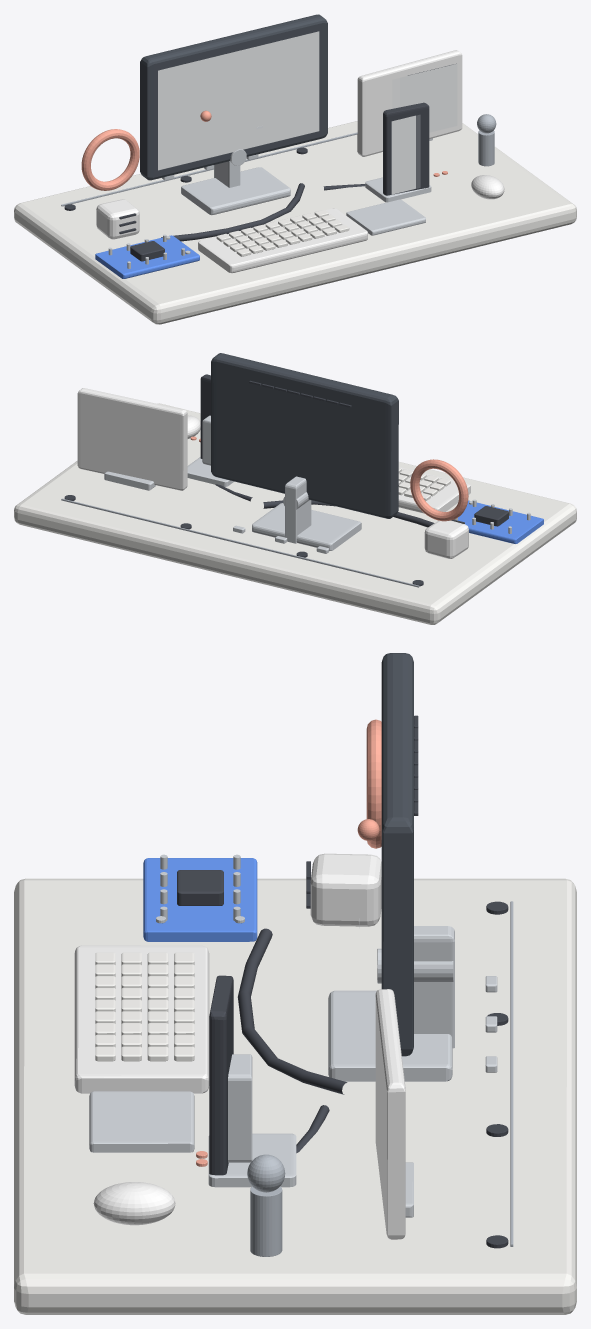
Rendered from prototype.glb.
The picture shows the model from 3 angles, top to bottom: view 1: azimuth 30°, elevation 25°; view 2: azimuth 150°, elevation 25°; view 3: azimuth 270°, elevation 25°; orthographic projection. The views are drawn at different scales.
Parts seen in each view (by area): view 1: PRO_test_bench, SCREEN_prototype_monitor, GLASS_prototype_monitor, PRO_monitor_frame, PRO_tablet_frame, PRO_keyboard, PRO_monitor_foot, GLASS_prototype_tablet, SCREEN_prototype_tablet, PRO_phone_frame, GLASS_prototype_phone, PRO_esp32_board (+11 smaller); view 2: PRO_test_bench, PRO_monitor_frame, PRO_tablet_frame, PRO_monitor_foot, PRO_esp32_board, PRO_light_ring, PRO_sensor, PRO_monitor_stem, PRO_keyboard, PRO_bench_seam, PRO_phone_stand, PRO_phone_frame (+4 smaller); view 3: PRO_test_bench, PRO_monitor_frame, PRO_keyboard, PRO_esp32_board, PRO_tablet_frame, PRO_trackpad, PRO_monitor_foot, PRO_sensor, PRO_phone_frame, PRO_monitor_stem, PRO_cable_main, PRO_mouse (+8 smaller).
Part boxes in pixels (x1,y1,x2,y2): PRO_test_bench: [14, 121, 576, 324]; SCREEN_prototype_monitor: [158, 31, 319, 170]; GLASS_prototype_monitor: [158, 32, 318, 169]; PRO_monitor_frame: [140, 14, 327, 180]; PRO_tablet_frame: [357, 50, 462, 156]; PRO_keyboard: [198, 208, 367, 273]; PRO_monitor_foot: [181, 167, 290, 215]; GLASS_prototype_tablet: [392, 64, 456, 132]; SCREEN_prototype_tablet: [400, 64, 457, 132]; PRO_phone_frame: [383, 102, 429, 195]; GLASS_prototype_phone: [392, 115, 420, 194]; PRO_esp32_board: [95, 235, 199, 278]; PRO_test_bench: [14, 403, 576, 624]; PRO_monitor_frame: [211, 353, 398, 518]; PRO_tablet_frame: [77, 388, 187, 490]; PRO_monitor_foot: [252, 503, 361, 550]; PRO_esp32_board: [457, 500, 543, 543]; PRO_light_ring: [410, 459, 468, 521]; PRO_sensor: [424, 520, 468, 558]; PRO_monitor_stem: [285, 476, 311, 543]; PRO_keyboard: [398, 467, 470, 513]; PRO_bench_seam: [61, 498, 419, 587]; PRO_phone_stand: [187, 457, 234, 486]; PRO_phone_frame: [200, 374, 210, 458]; PRO_test_bench: [14, 878, 576, 1314]; PRO_monitor_frame: [381, 653, 413, 1056]; PRO_keyboard: [74, 945, 209, 1093]; PRO_esp32_board: [143, 858, 257, 941]; PRO_tablet_frame: [375, 989, 405, 1239]; PRO_trackpad: [89, 1091, 194, 1152]; PRO_monitor_foot: [328, 990, 452, 1081]; PRO_sensor: [310, 853, 381, 926]; PRO_phone_frame: [209, 975, 233, 1175]; PRO_monitor_stem: [414, 926, 454, 1048]; PRO_cable_main: [237, 928, 347, 1094]; PRO_mouse: [93, 1182, 175, 1225].
Size of the model in its own units: 6.6 by 2.62 by 3.85.
